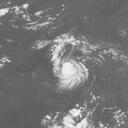cyclone: (58, 61, 89, 89)
